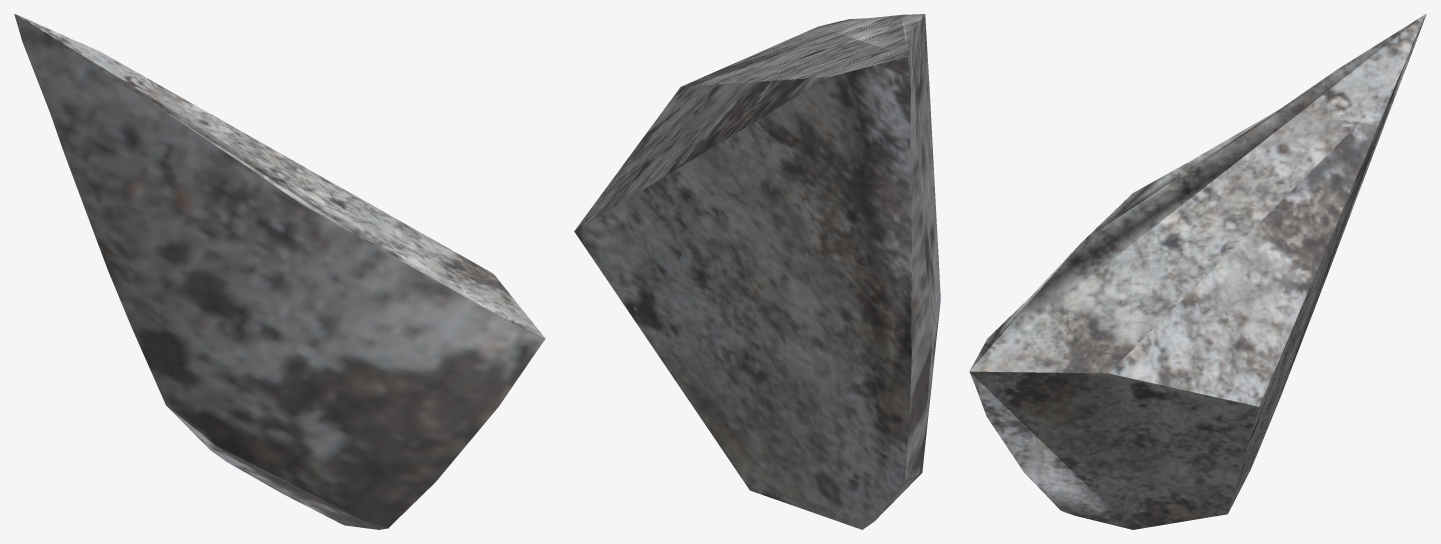
Rendered from Asteroid_Large_001_02_002_03_027.fbx.
3 renders of one model, left to right at view 1: azimuth 30°, elevation 25°; view 2: azimuth 150°, elevation 25°; view 3: azimuth 270°, elevation 25°, orthographic. The views are drawn at different scales.
Visible parts, largest first — view 1: Asteroid_Large_001_02_002_03_027; view 2: Asteroid_Large_001_02_002_03_027; view 3: Asteroid_Large_001_02_002_03_027.
Part boxes in pixels (box(x1,y1,x2,y2)): Asteroid_Large_001_02_002_03_027: box(14, 14, 545, 529); Asteroid_Large_001_02_002_03_027: box(574, 14, 940, 529); Asteroid_Large_001_02_002_03_027: box(969, 14, 1426, 529).
Size of the model in its own units: 6.75 by 9.09 by 8.74.
